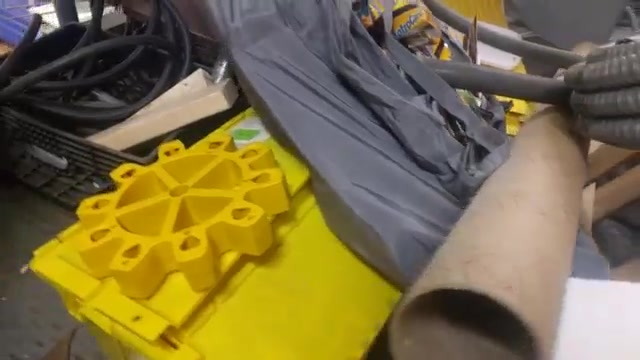gear: (63, 120, 283, 301)
